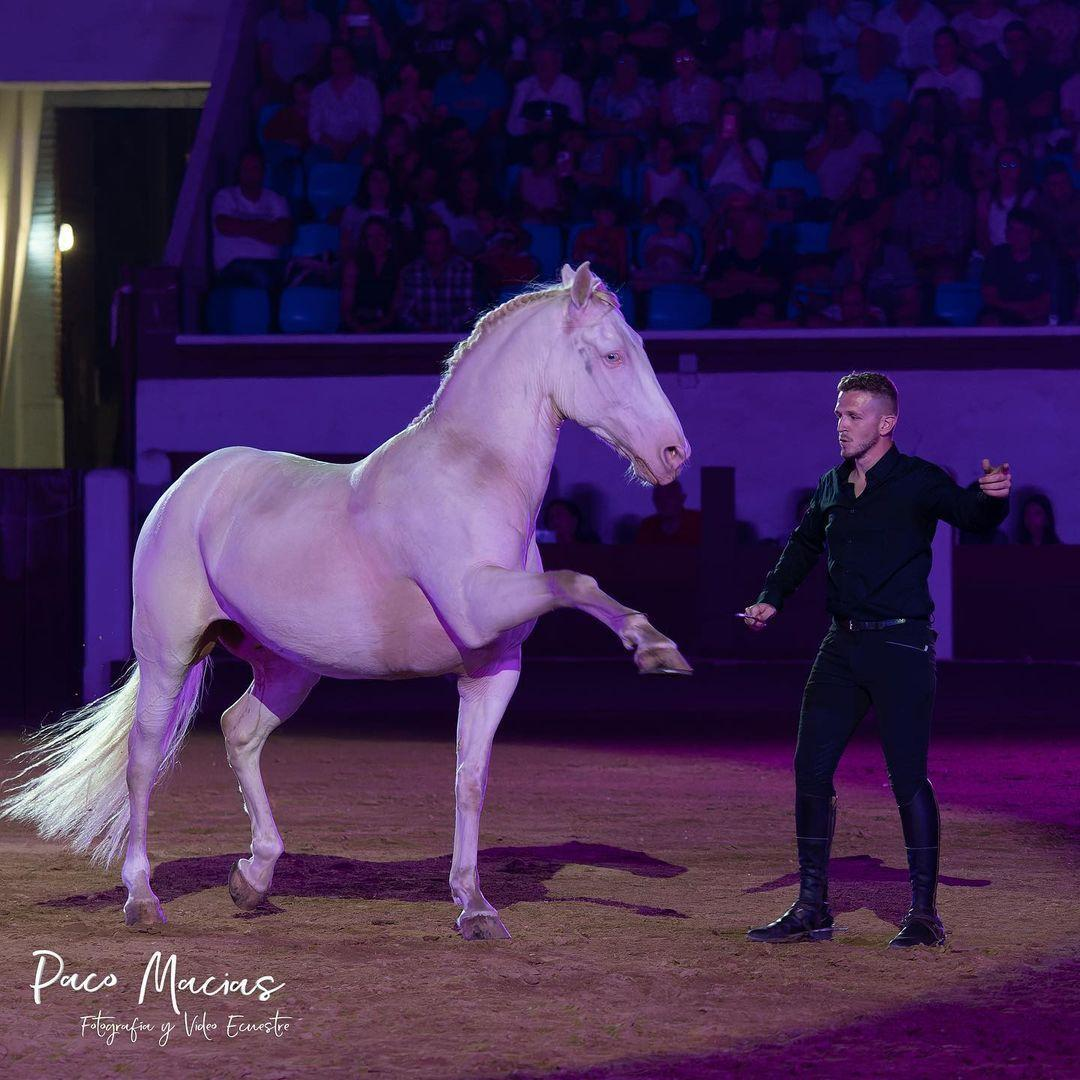horse: (0, 258, 695, 942)
